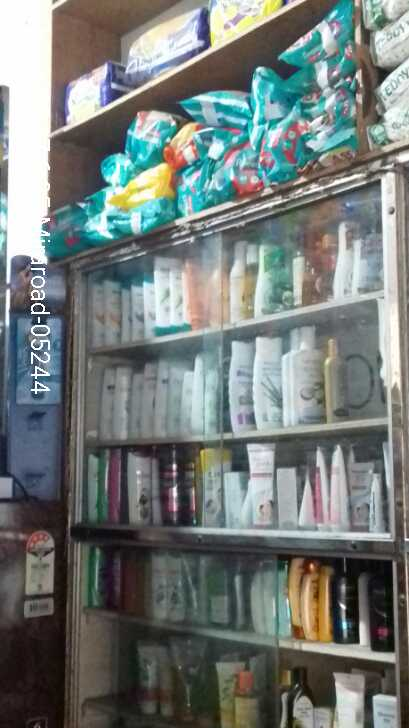reject: (135, 265, 249, 460)
